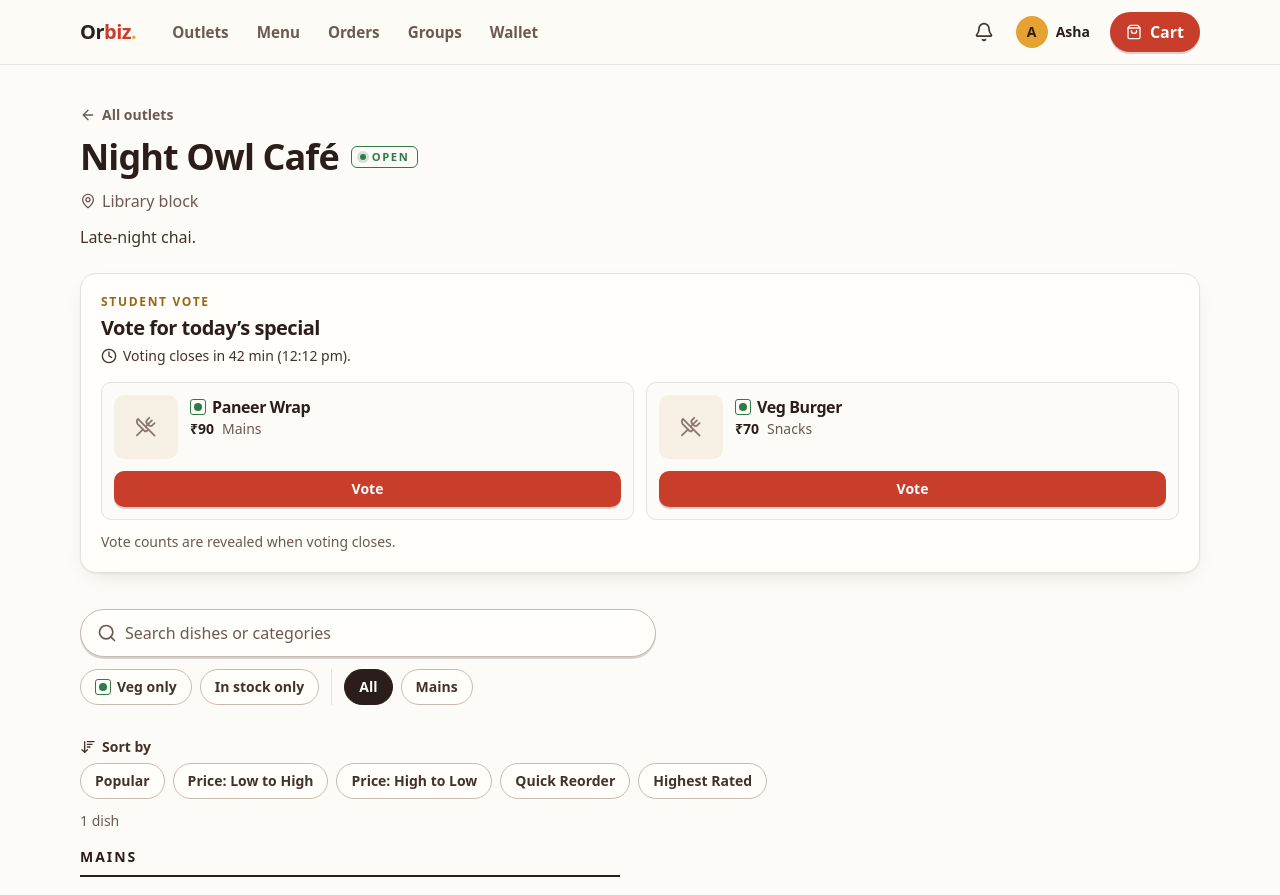
Test: voting for Today’s Special › sends only the chosen option, then shows the server-confirmed vote
Click the button with aria-label "Vote for Veg Burger" at (912, 489), box [659,471,1166,507]
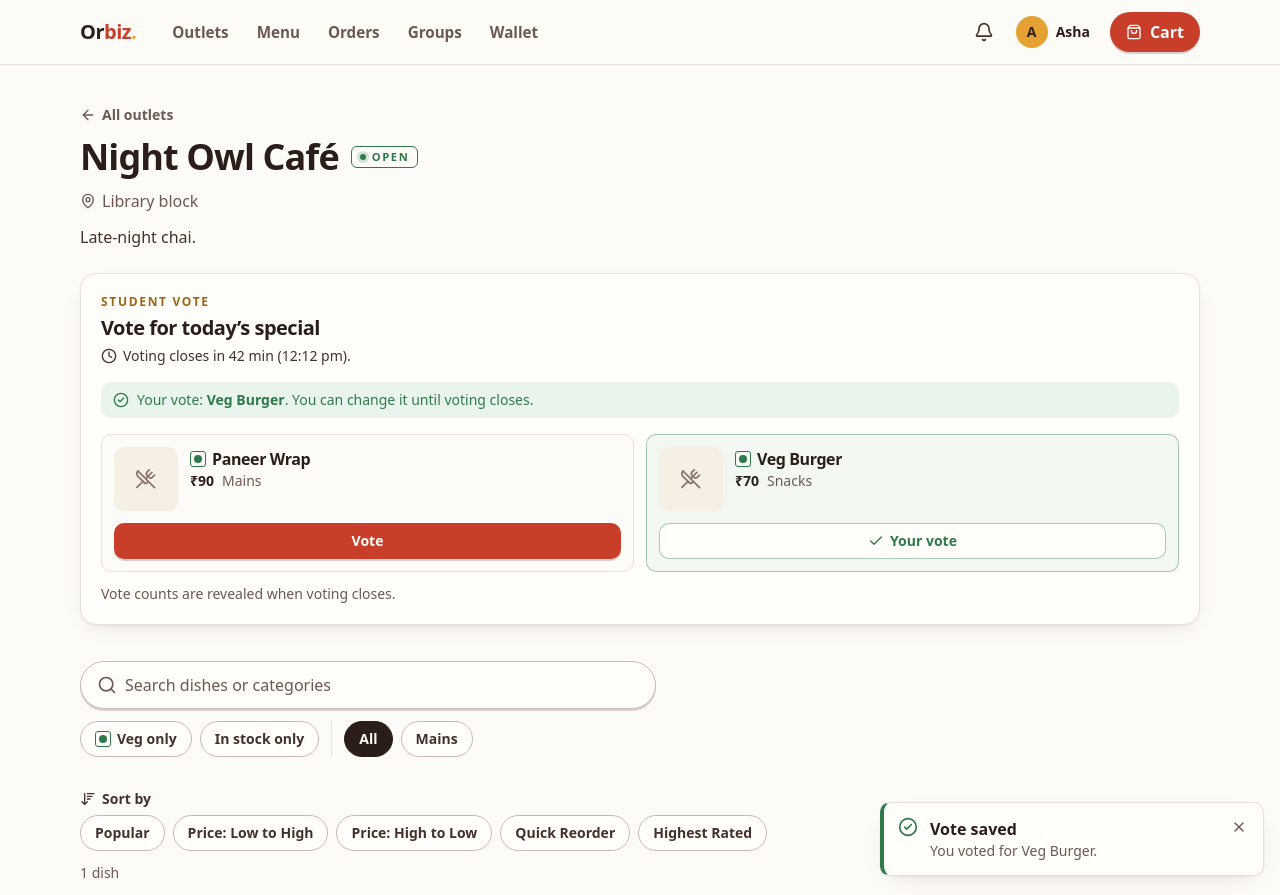
Check: the text "You can change it until voting closes" is shown, box [288,390,534,409]
Check: the message "Your vote: Veg Burger. You can change it until voting closes." is shown, box [101,382,1179,418]
Check: the text "You voted for Veg Burger." is shown, box [930,841,1097,860]
